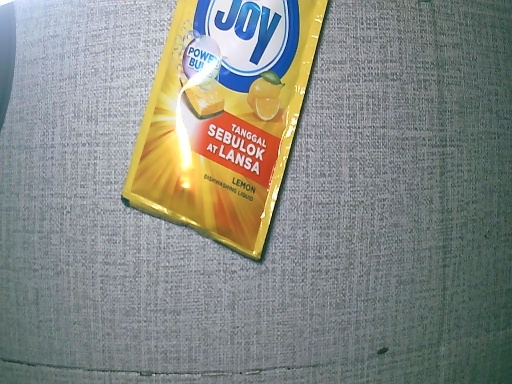plastic: (111, 1, 325, 267)
